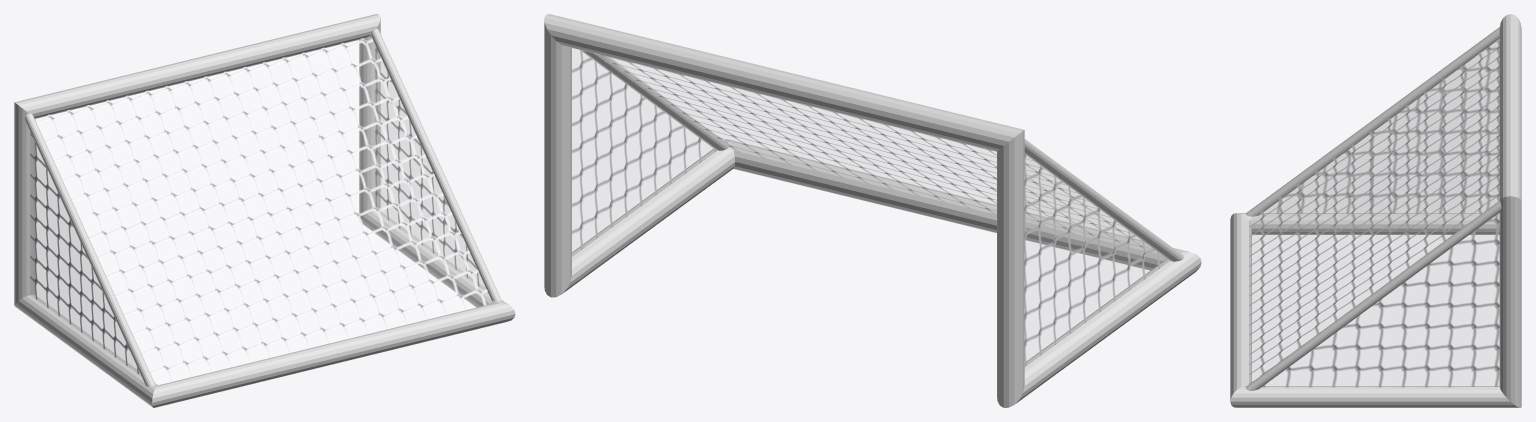
Rendered from equipment_0010_minigoal.glb.
3 renders of one model, left to right at view 1: azimuth 30°, elevation 25°; view 2: azimuth 150°, elevation 25°; view 3: azimuth 270°, elevation 25°, orthographic. The views are drawn at different scales.
Parts seen in each view (by area): view 1: net, poles, poles2; view 2: net, poles, poles2; view 3: net, poles, poles2.
Part boxes in pixels (x1,y1,x2,y2): net: (30, 37, 491, 384); poles: (14, 14, 515, 407); poles2: (25, 29, 501, 386); net: (572, 48, 1169, 366); poles: (544, 14, 1201, 407); poles2: (582, 51, 1183, 261); net: (1249, 38, 1499, 387); poles: (1230, 14, 1521, 407); poles2: (1245, 27, 1501, 390).
Size of the model in its own units: 140 by 77.12 by 94.56.
Materials: 2 (1 with a texture image).
